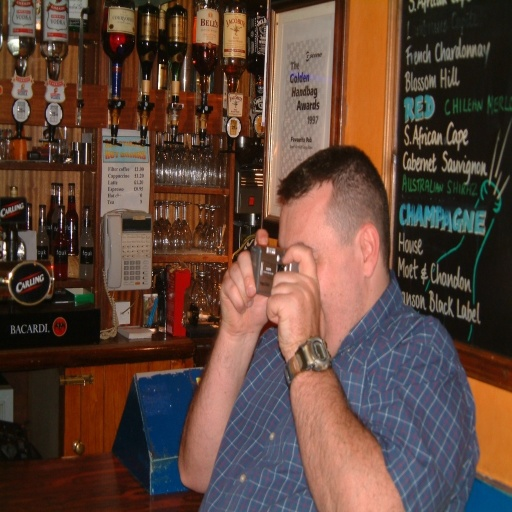hand: (218, 224, 272, 334), (269, 274, 316, 354)
